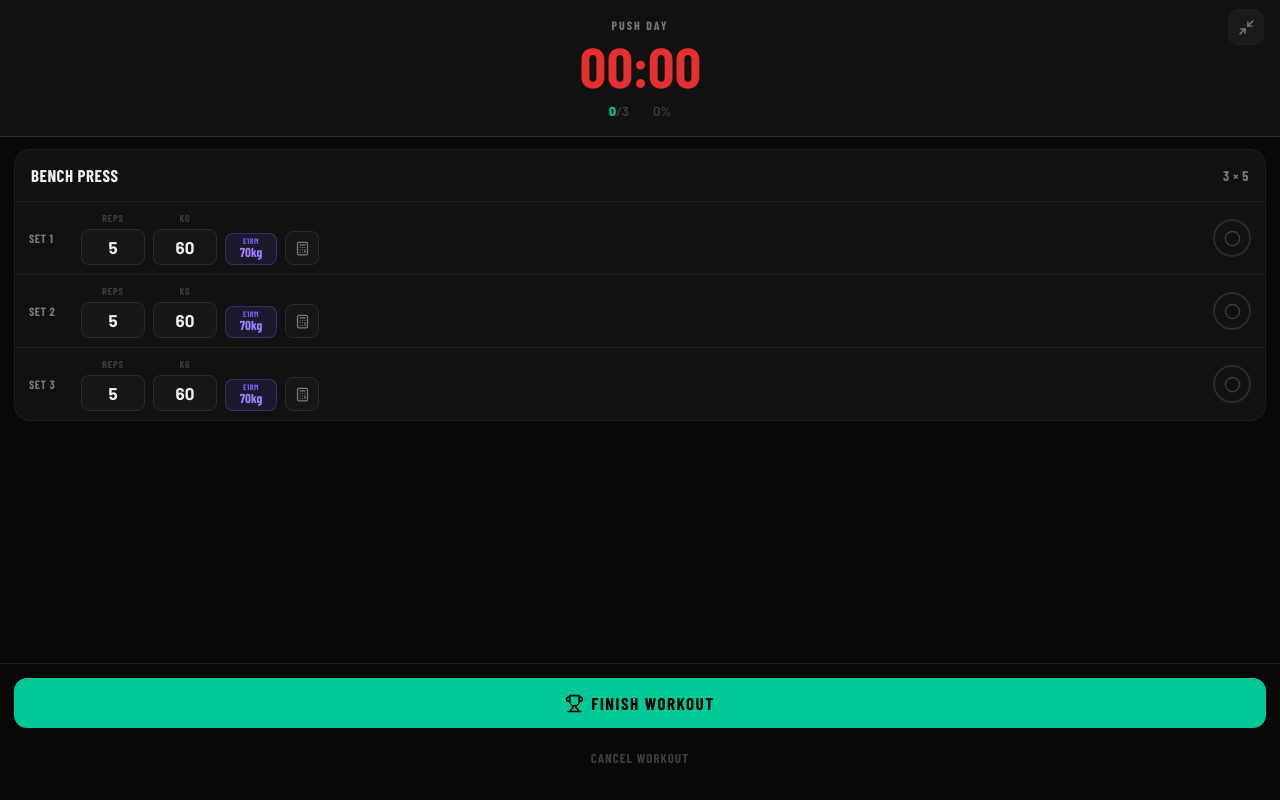
RunWorkout resuming a session in progress › keeps workout notes that were typed before leaving
Click the button "Finish Workout": (640, 703) [14, 678, 1266, 728]
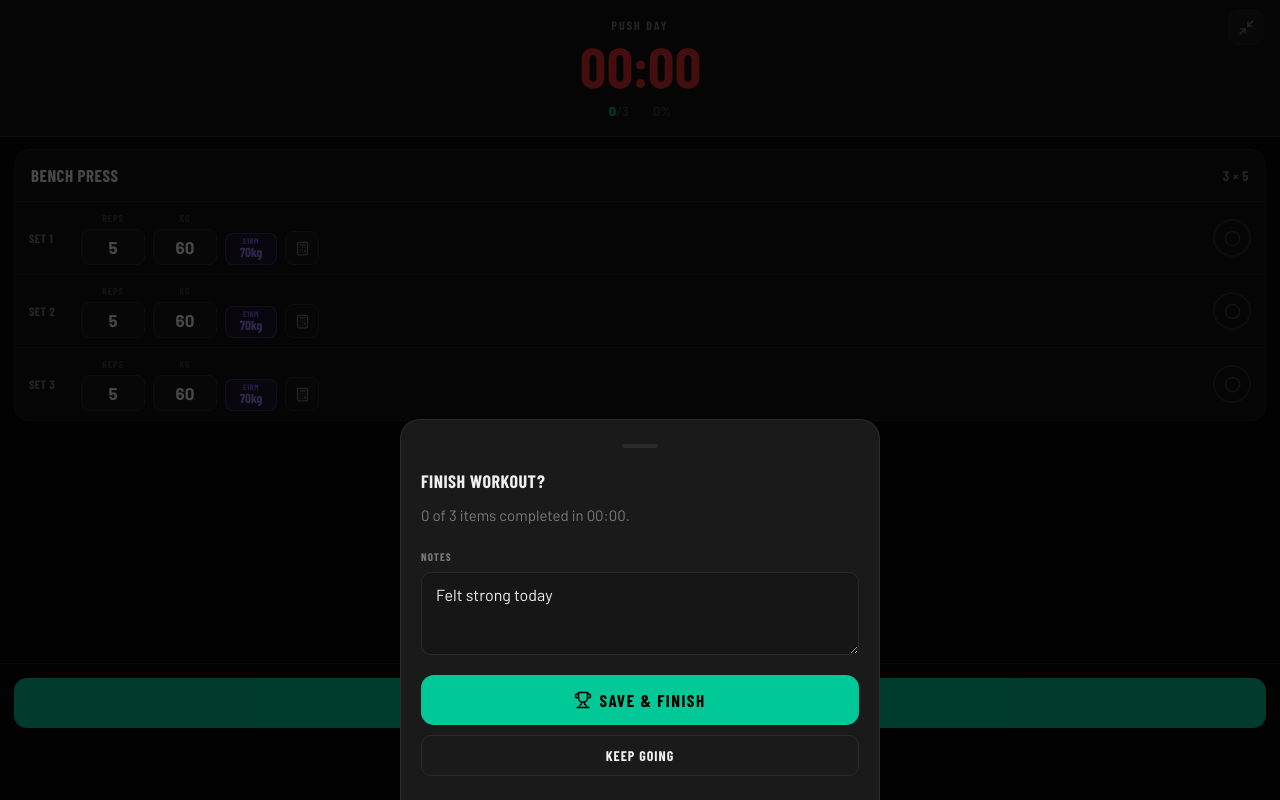
Now the text box holds "Felt strong today", box [421, 572, 859, 655]
